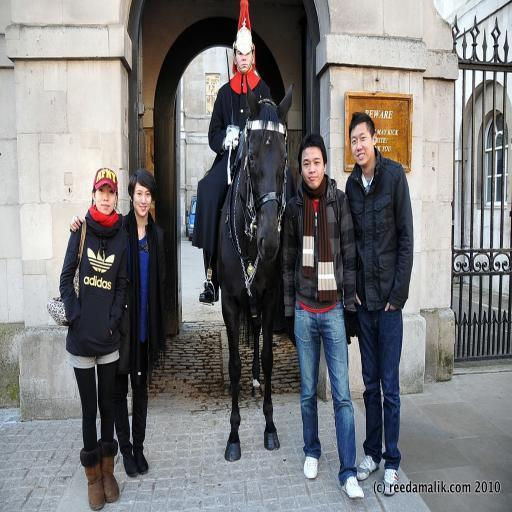horse: (192, 80, 304, 464)
